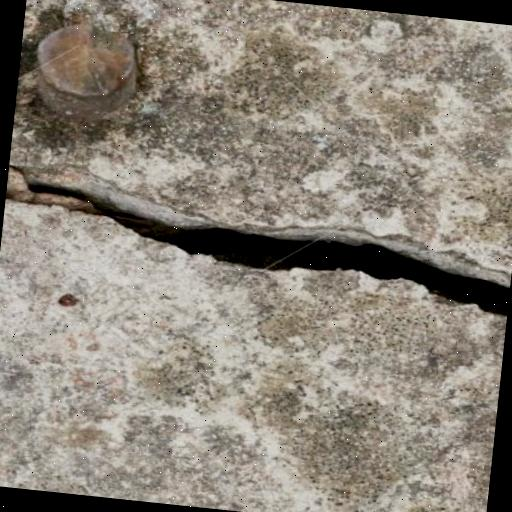spalling: (9, 164, 511, 322)
